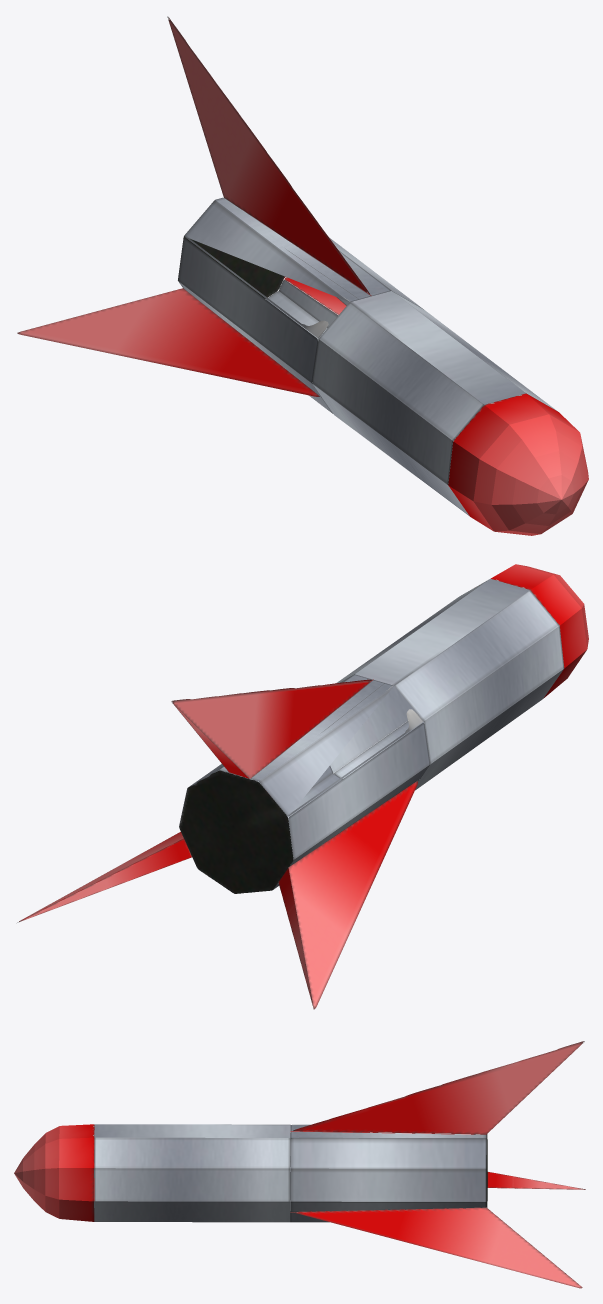
File: lowPolyMissile.fbx
The picture shows the model from 3 angles, top to bottom: view 1: azimuth 30°, elevation 25°; view 2: azimuth 150°, elevation 25°; view 3: azimuth 270°, elevation 25°; orthographic projection. The views are drawn at different scales.
Parts seen in each view (by area): view 1: Missile; view 2: Missile; view 3: Missile.
Boxes of the visible parts, <box> form: Missile: <box>17,16,588,535</box>; Missile: <box>17,564,588,1009</box>; Missile: <box>14,1041,585,1288</box>.
Bounding box in the file's own units: 516 × 446 × 1150.
